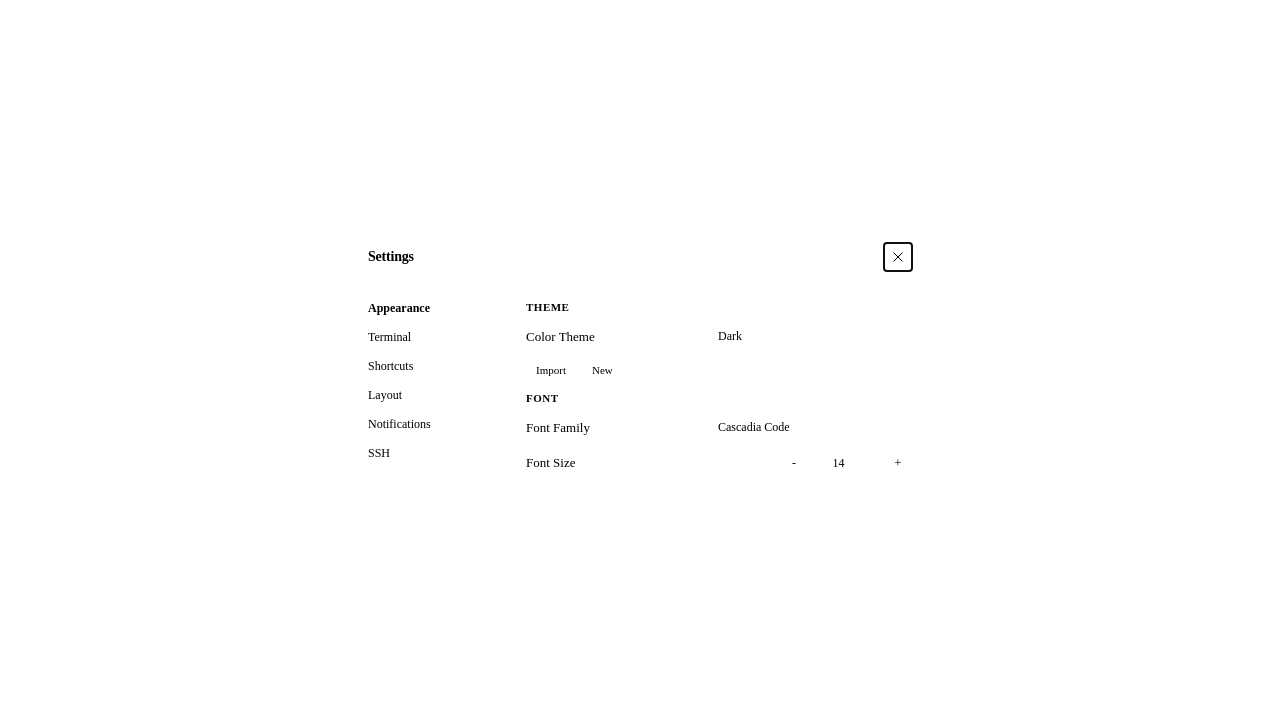
SettingsModal › shortcut capture mode works
The width and height of the screenshot is (1280, 720).
Click the button "Shortcuts" at (428, 366), box [358,353,498,380]
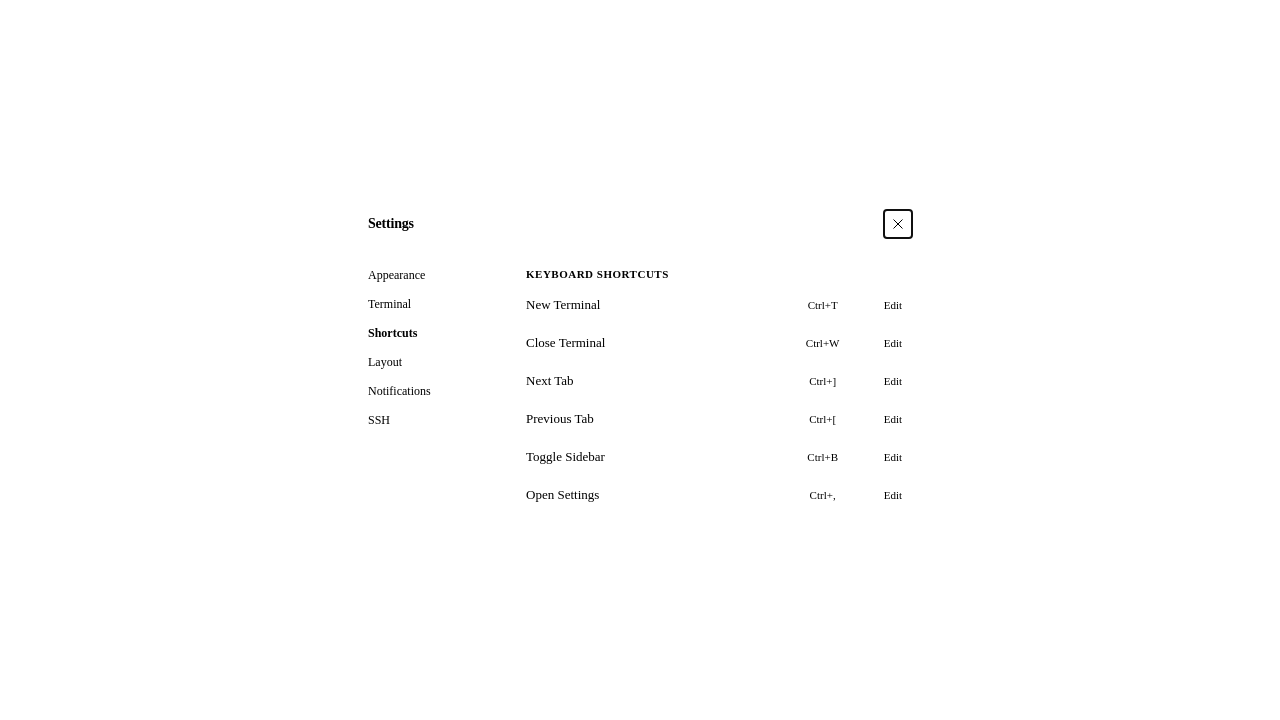
Now the button "Edit" next to "Ctrl+T" is shown
Click the button "Edit" next to "Ctrl+T" at (893, 305), box [876,296,910,314]
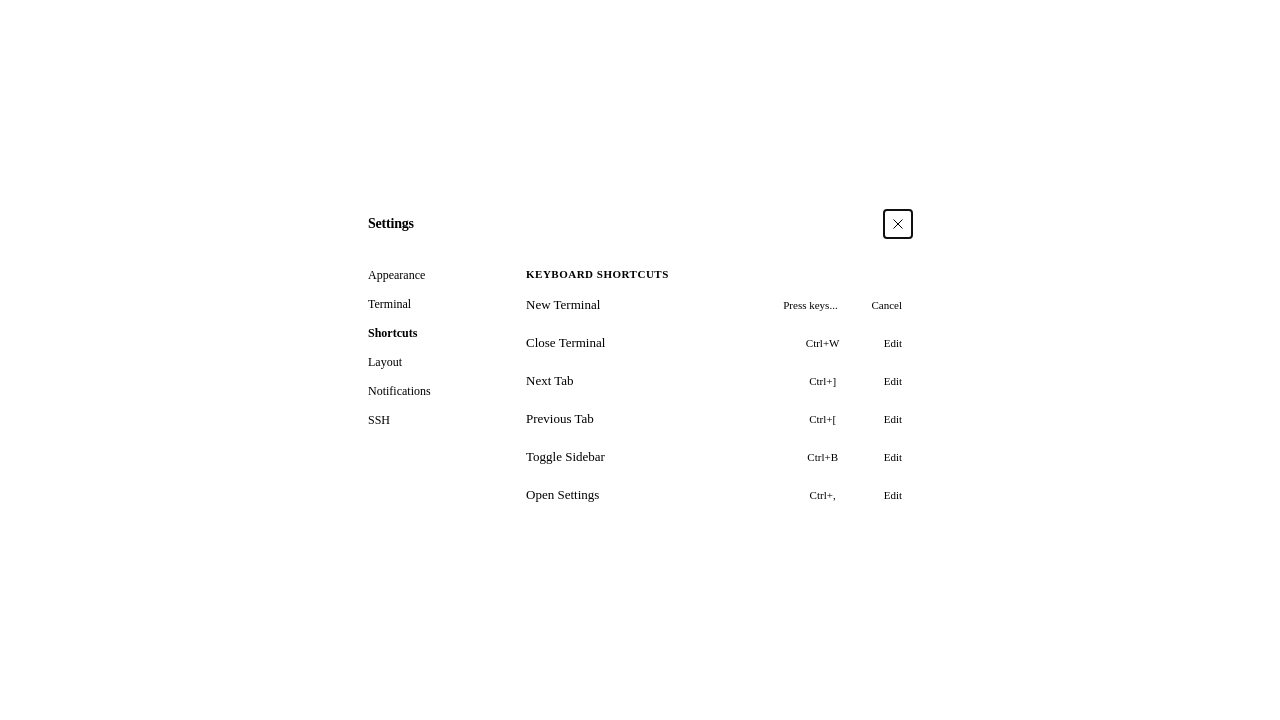
Now the button "Cancel" is shown, box [864,296,910,314]
Now the text "Press keys..." is shown, box [783,299,838,311]
